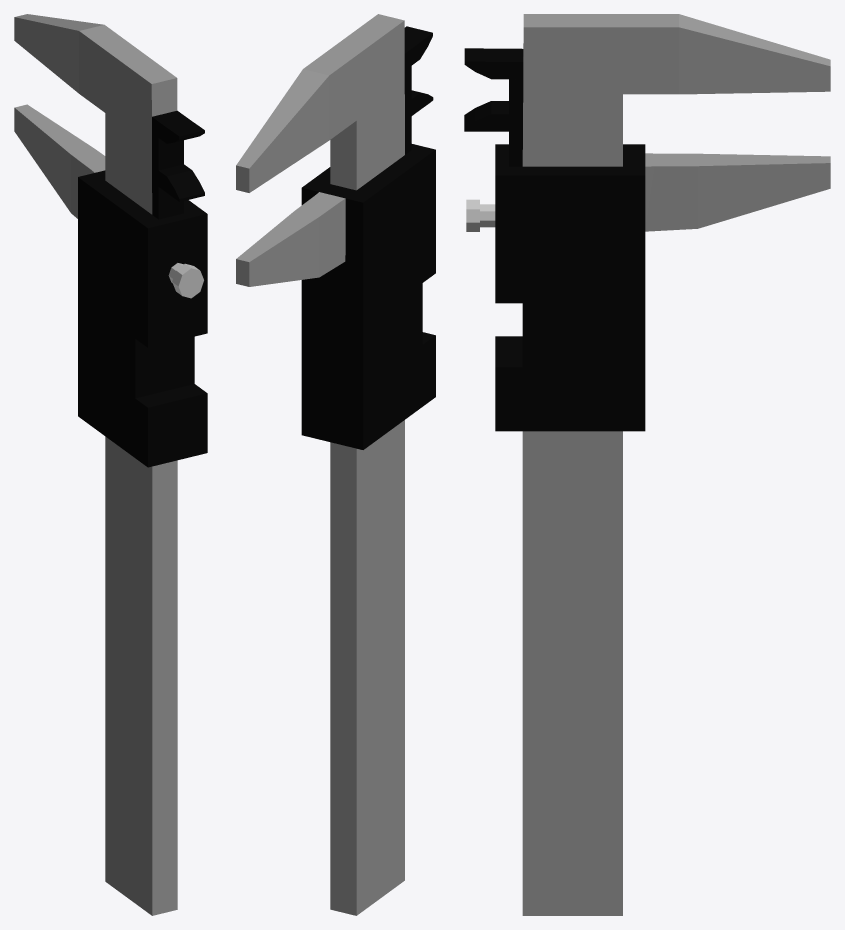
The model's file is vernier01.obj.
The picture shows the model from 3 angles, left to right: view 1: azimuth 30°, elevation 25°; view 2: azimuth 150°, elevation 25°; view 3: azimuth 270°, elevation 25°; orthographic projection. The views are drawn at different scales.
Parts seen in each view (by area): view 1: Cube; view 2: Cube; view 3: Cube.
Part boxes in pixels (left/top/right/bottom): Cube: left=14, top=14, right=207, bottom=915; Cube: left=236, top=14, right=435, bottom=915; Cube: left=464, top=14, right=830, bottom=915.
Size of the model in its own units: 0.013 by 0.1739 by 0.065.
1 material, 1 textured.
